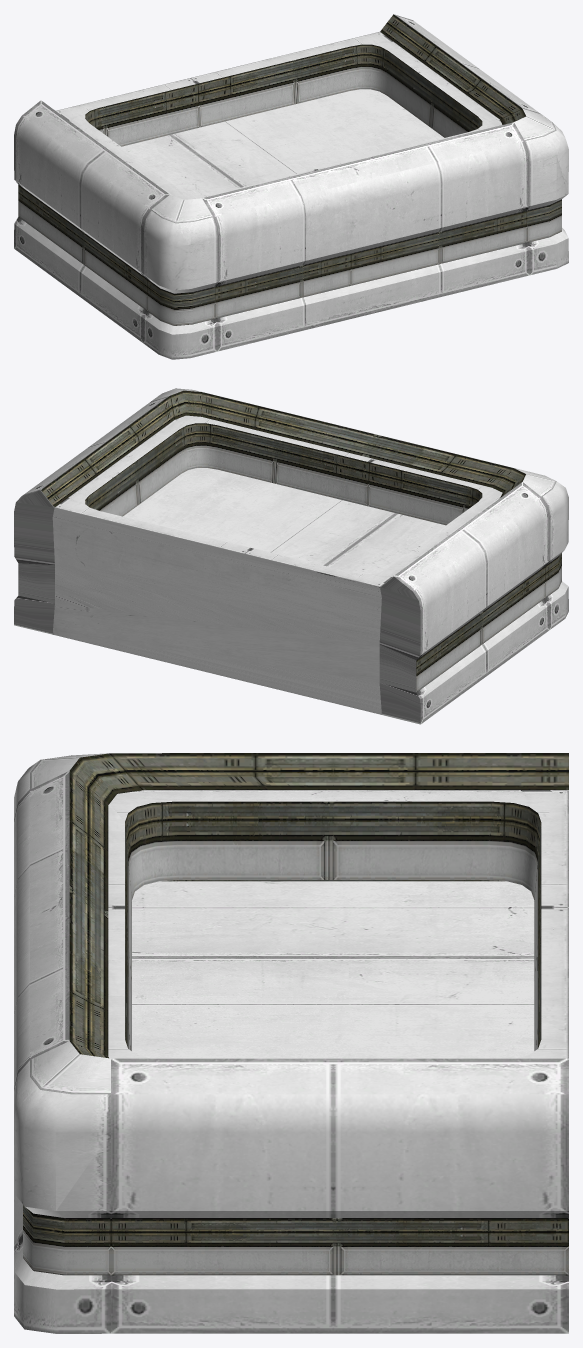
The model's file is Emb_PlanterBalc_3X2open.FBX.
3 renders of one model, top to bottom at view 1: azimuth 30°, elevation 25°; view 2: azimuth 150°, elevation 25°; view 3: azimuth 270°, elevation 25°, orthographic. The views are drawn at different scales.
Visible parts, largest first — view 1: Emb_PlanterBalc_3X2open; view 2: Emb_PlanterBalc_3X2open; view 3: Emb_PlanterBalc_3X2open.
Part boxes in pixels (<box>): Emb_PlanterBalc_3X2open: <box>14,14,568,359</box>; Emb_PlanterBalc_3X2open: <box>14,388,568,724</box>; Emb_PlanterBalc_3X2open: <box>14,753,568,1333</box>.
Size of the model in its own units: 3 by 1 by 2.
